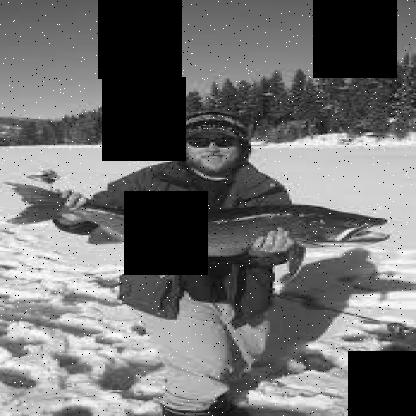fish: (1, 179, 398, 281)
